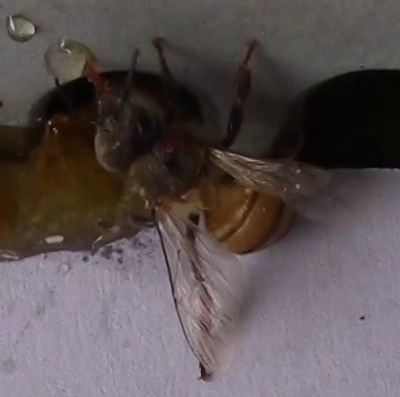Varroa destructor: (156, 130, 193, 154)
